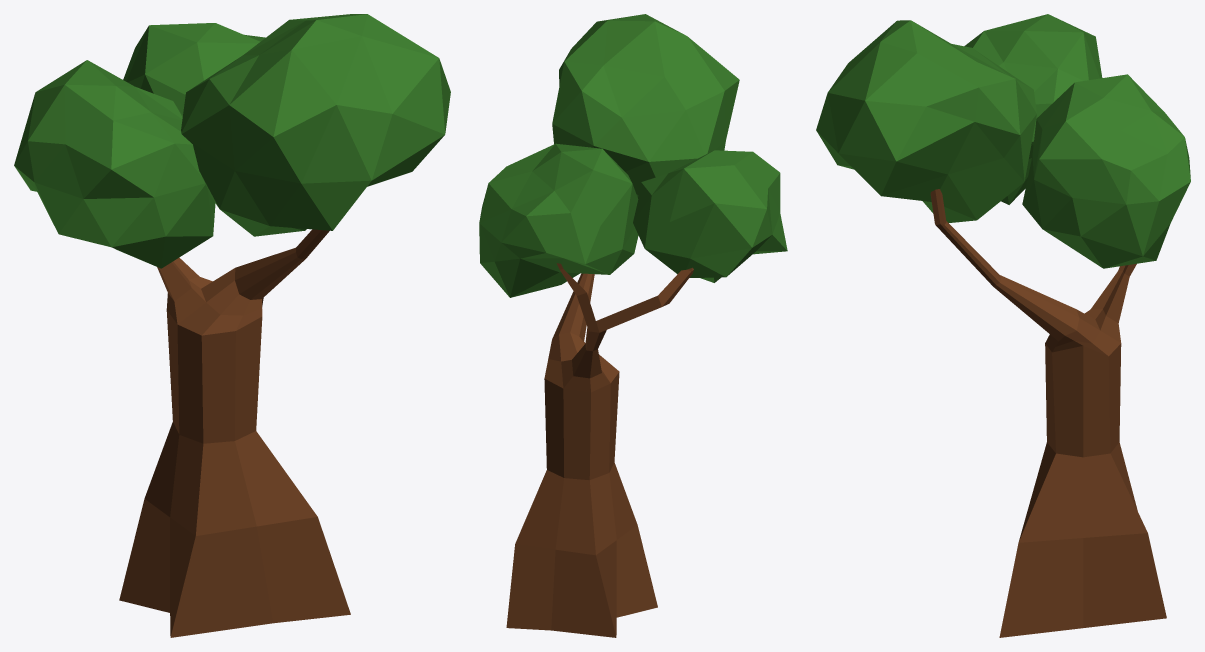
Rendered from tree4.fbx.
3 renders of one model, left to right at view 1: azimuth 30°, elevation 25°; view 2: azimuth 150°, elevation 25°; view 3: azimuth 270°, elevation 25°, orthographic. The views are drawn at different scales.
Parts seen in each view (by area): view 1: Cube; view 2: Cube; view 3: Cube.
Part boxes in pixels (x1,y1,x2,y2): Cube: [14, 14, 450, 637]; Cube: [479, 14, 787, 637]; Cube: [816, 14, 1190, 637].
Bounding box in the file's own units: 6220 × 11398 × 6666.
